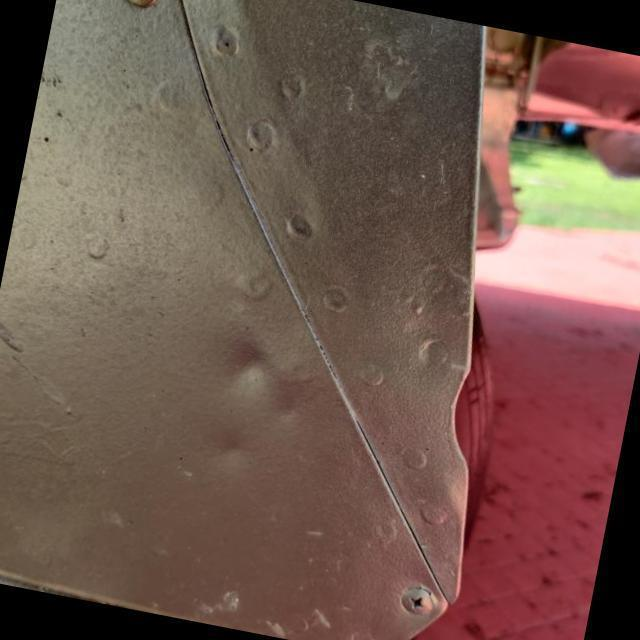Dent: (198, 312, 332, 453)
